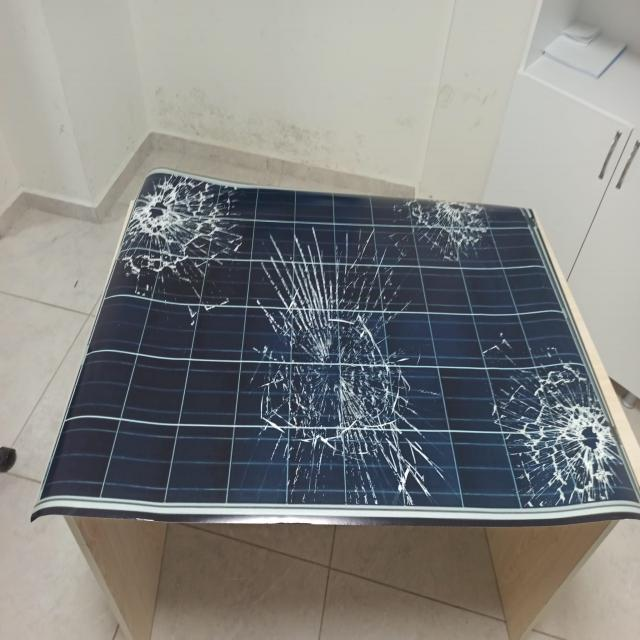faulty: (32, 170, 640, 520)
